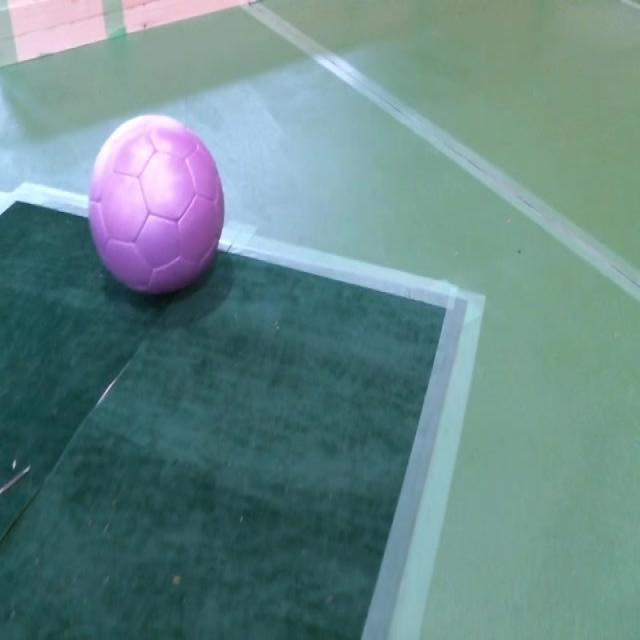purple_ball: (93, 117, 223, 296)
